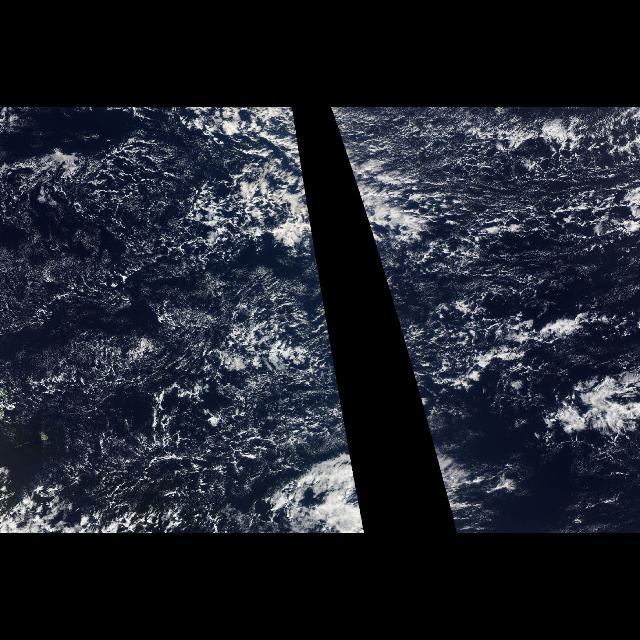Gravel: (2, 107, 350, 533), (329, 108, 639, 442)
Sugar: (337, 107, 639, 357), (0, 146, 224, 474)
